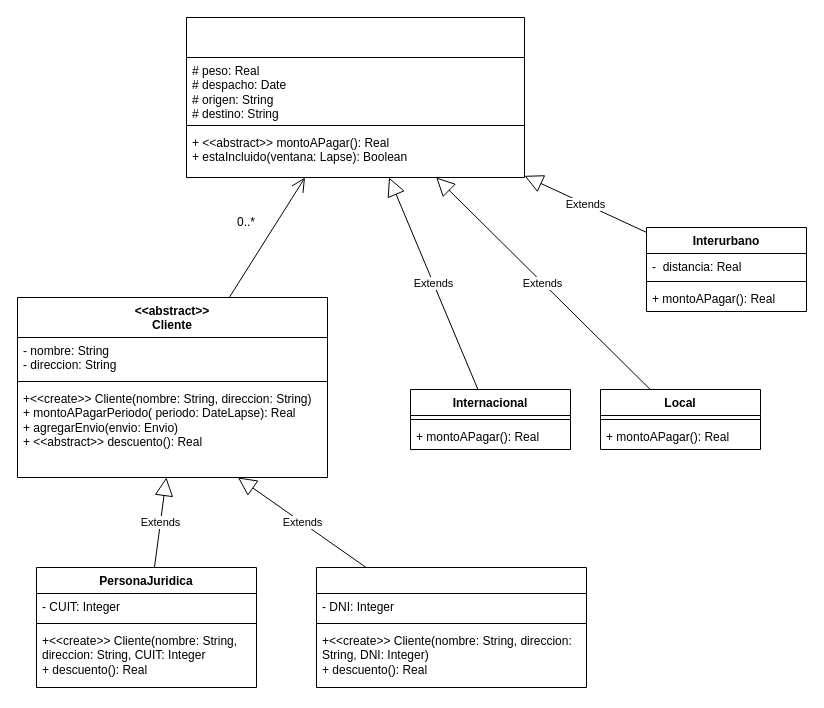
Image size: 824x708. Some labels were removed from this diagram. The box of each missing label's shape, as (x1, y1, x2, y2) in pixels:
<<abstract>> Envio: (186, 16, 524, 178)
PersonaFisica: (316, 566, 586, 688)
